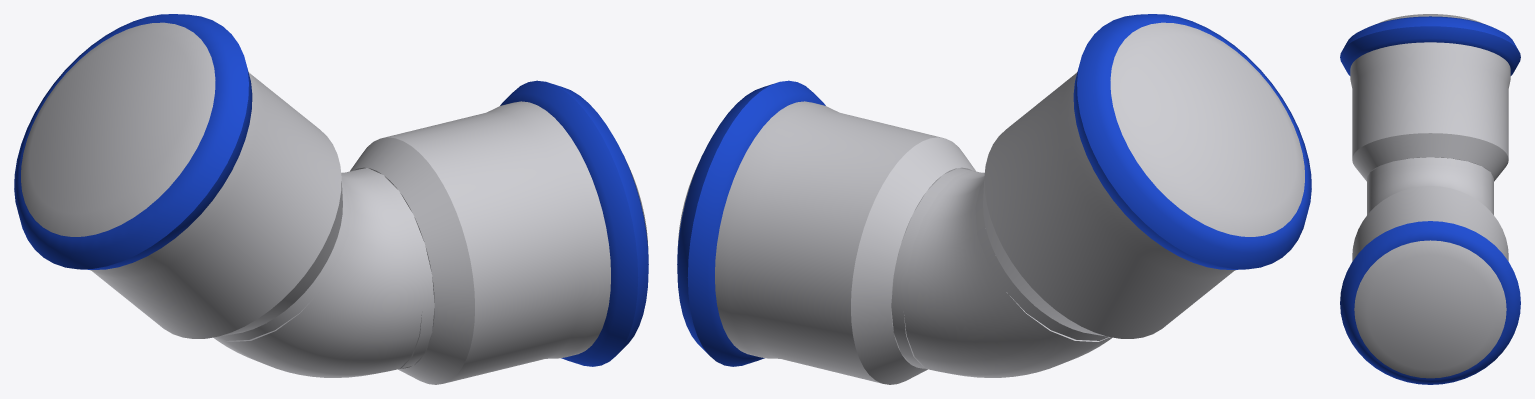
Rendered from fitting_e45_22.glb.
3 views of the same model, side by side, from view 1: azimuth 30°, elevation 25°; view 2: azimuth 150°, elevation 25°; view 3: azimuth 270°, elevation 25° (orthographic). The views are drawn at different scales.
Parts seen in each view (by area): view 1: раструб.001, раструб, изгиб, кольцо пресс.001, кольцо пресс, корпус, корпус.001; view 2: раструб.001, раструб, изгиб, кольцо пресс.001, кольцо пресс, корпус, корпус.001; view 3: раструб, раструб.001, кольцо пресс, кольцо пресс.001, изгиб, корпус.001.
Boxes of the visible parts, x1,y1,x2,y2 form: раструб.001: [21, 22, 342, 338]; раструб: [350, 101, 648, 384]; изгиб: [213, 170, 422, 377]; кольцо пресс.001: [14, 14, 252, 269]; кольцо пресс: [500, 80, 648, 366]; корпус: [345, 168, 434, 368]; корпус.001: [217, 182, 350, 340]; раструб.001: [983, 22, 1304, 338]; раструб: [677, 101, 975, 384]; изгиб: [903, 170, 1112, 377]; кольцо пресс.001: [1073, 14, 1311, 269]; кольцо пресс: [677, 80, 825, 366]; корпус: [891, 168, 980, 368]; корпус.001: [975, 182, 1108, 340]; раструб: [1352, 186, 1508, 378]; раструб.001: [1350, 14, 1510, 181]; кольцо пресс: [1340, 221, 1520, 384]; кольцо пресс.001: [1340, 16, 1520, 75]; изгиб: [1367, 165, 1493, 214]; корпус.001: [1367, 157, 1493, 186].
Size of the model in its own units: 0.0784 by 0.0562 by 0.0356.
